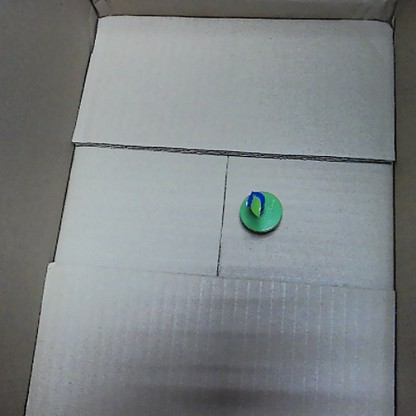leafairy: (235, 186, 284, 238)
